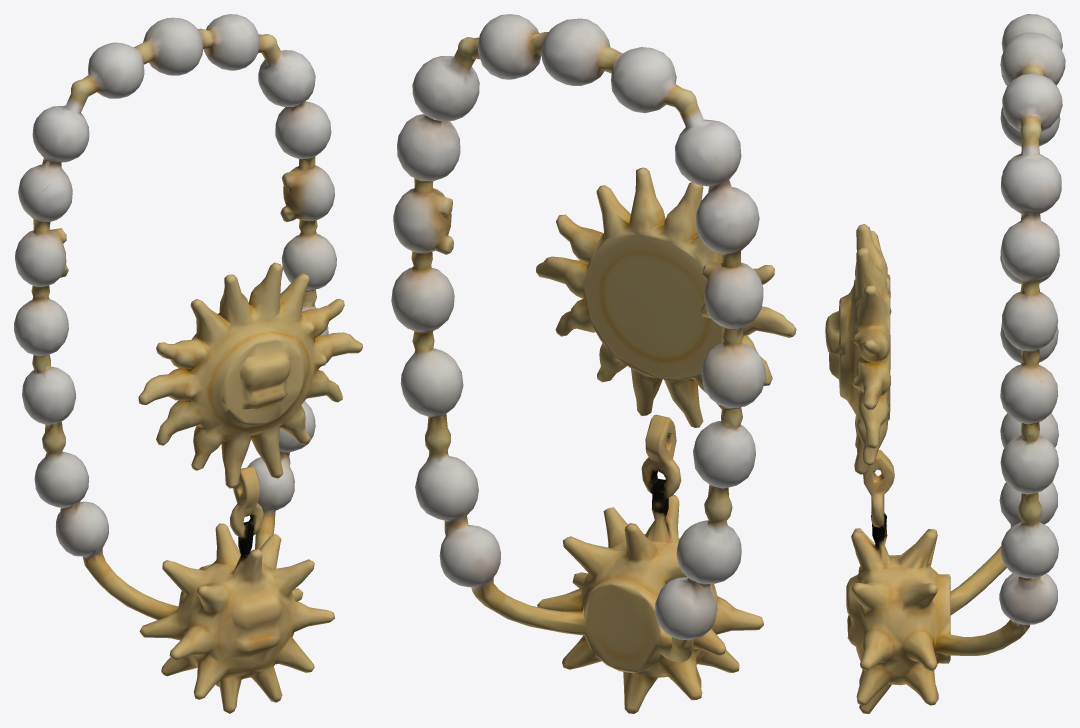
3 renders of one model, left to right at view 1: azimuth 30°, elevation 25°; view 2: azimuth 150°, elevation 25°; view 3: azimuth 270°, elevation 25°, orthographic. The views are drawn at different scales.
Parts seen in each view (by area): view 1: saint-rosary; view 2: saint-rosary; view 3: saint-rosary.
Boxes of the visible parts, box(x1,y1,x2,y2) form: saint-rosary: box(14, 14, 362, 713); saint-rosary: box(391, 14, 796, 713); saint-rosary: box(825, 14, 1065, 713).
Size of the model in its own units: 0.1316 by 0.252 by 0.0823.
Materials: 1 (1 with a texture image).
